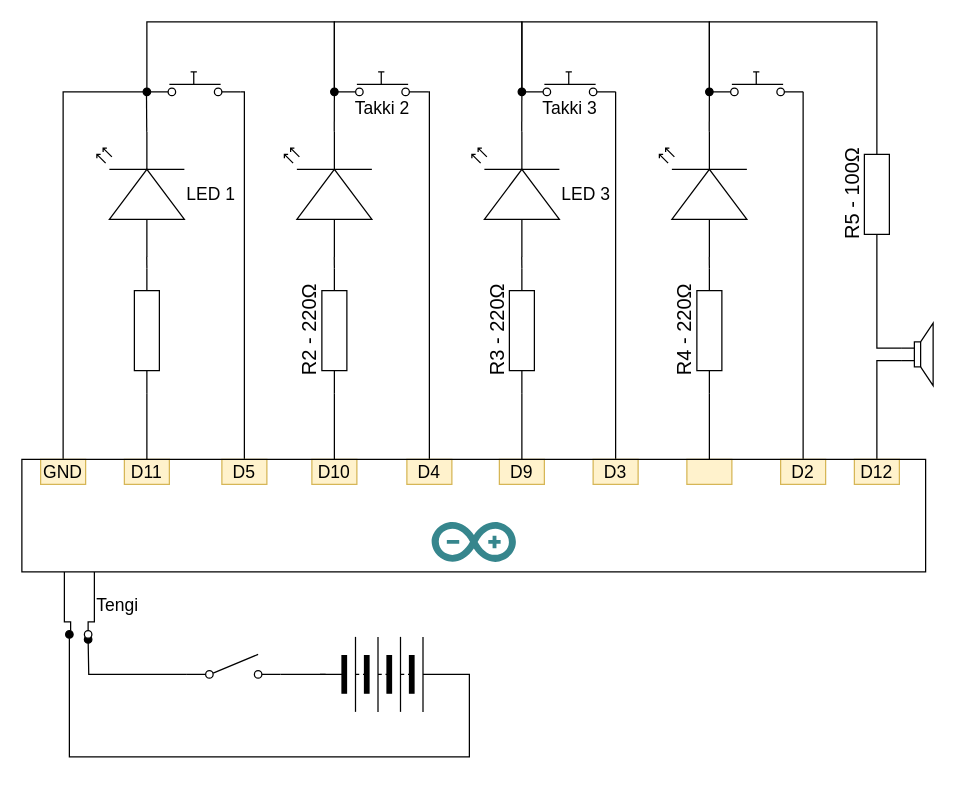
This 969x789 diagram has some shape labels left out. The centre of each missing label's shape, as x and y in pixels:
"D8" goes at (709,471).
"Hátalari" goes at (917,354).
"LED 2" goes at (327,194).
"LED 4" goes at (702,194).
"R1 - 220Ω" goes at (146,330).
"Rafhlöður" goes at (382,674).
"Rofi" goes at (233,665).
"Takki 1" goes at (193,83).
"Takki 4" goes at (755,83).
